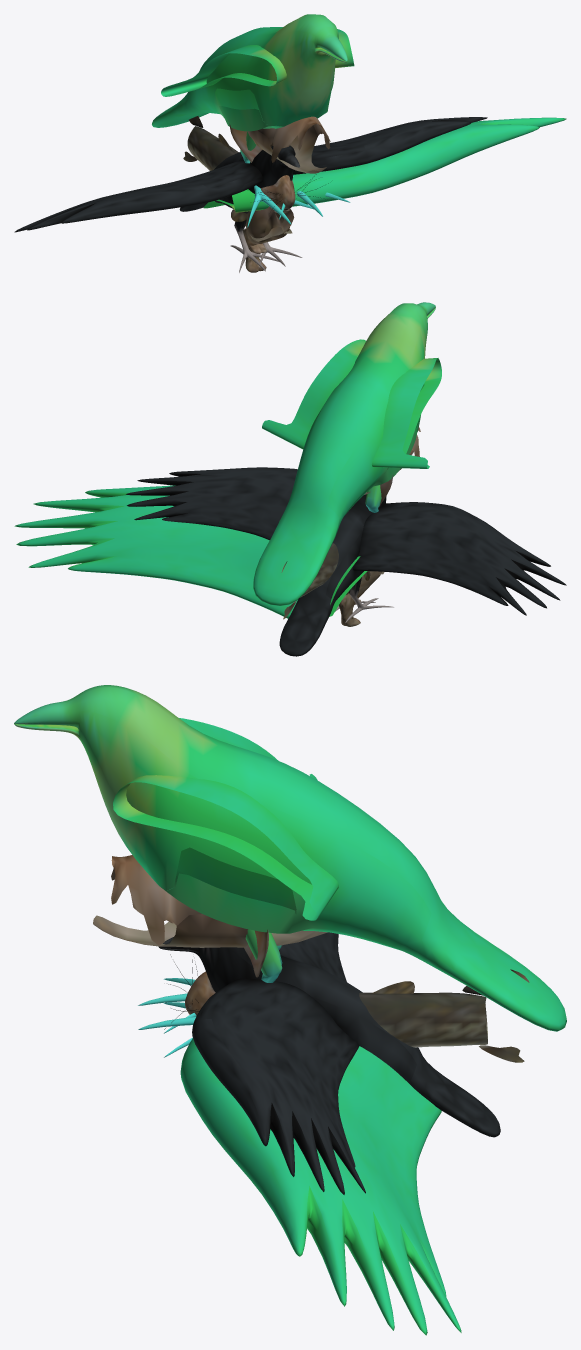
The model's file is dl_creatures.glb.
3 views of the same model, one above another, from view 1: azimuth 30°, elevation 25°; view 2: azimuth 150°, elevation 25°; view 3: azimuth 270°, elevation 25° (orthographic). The views are drawn at different scales.
Visible parts, largest first — view 1: dl_vulture_body, dl_crow, dl_vulture_wing, dl_rabbit_torso, dl_vulture_legs, dl_pike_body, dl_rabbit_head, dl_rabbit_leg_br, dl_rabbit_leg_bl; view 2: dl_vulture_body, dl_crow, dl_vulture_wing, dl_pike_body, dl_rabbit_leg_br; view 3: dl_vulture_body, dl_crow, dl_vulture_wing, dl_rabbit_torso, dl_pike_body, dl_vulture_legs, dl_rabbit_head.
Part boxes in pixels (x1=…): dl_vulture_body: x1=152, y1=14, x2=354, y2=131; dl_crow: x1=14, y1=117, x2=487, y2=272; dl_vulture_wing: x1=203, y1=117, x2=566, y2=212; dl_rabbit_torso: x1=247, y1=116, x2=330, y2=173; dl_vulture_legs: x1=215, y1=88, x2=350, y2=227; dl_pike_body: x1=183, y1=116, x2=290, y2=221; dl_rabbit_head: x1=229, y1=124, x2=328, y2=208; dl_rabbit_leg_br: x1=243, y1=206, x2=292, y2=272; dl_rabbit_leg_bl: x1=243, y1=209, x2=294, y2=271; dl_vulture_body: x1=253, y1=302, x2=441, y2=605; dl_crow: x1=126, y1=467, x2=566, y2=656; dl_vulture_wing: x1=14, y1=485, x2=367, y2=618; dl_pike_body: x1=281, y1=543, x2=370, y2=619; dl_rabbit_leg_br: x1=339, y1=571, x2=381, y2=626; dl_vulture_body: x1=14, y1=685, x2=566, y2=1031; dl_crow: x1=158, y1=932, x2=500, y2=1194; dl_vulture_wing: x1=180, y1=1038, x2=461, y2=1335; dl_rabbit_torso: x1=93, y1=855, x2=327, y2=947; dl_pike_body: x1=359, y1=969, x2=529, y2=1062; dl_vulture_legs: x1=138, y1=847, x2=296, y2=1057; dl_rabbit_head: x1=164, y1=929, x2=268, y2=1029.
Bounding box in the file's own units: 1.53 × 0.7705 × 0.8306.
